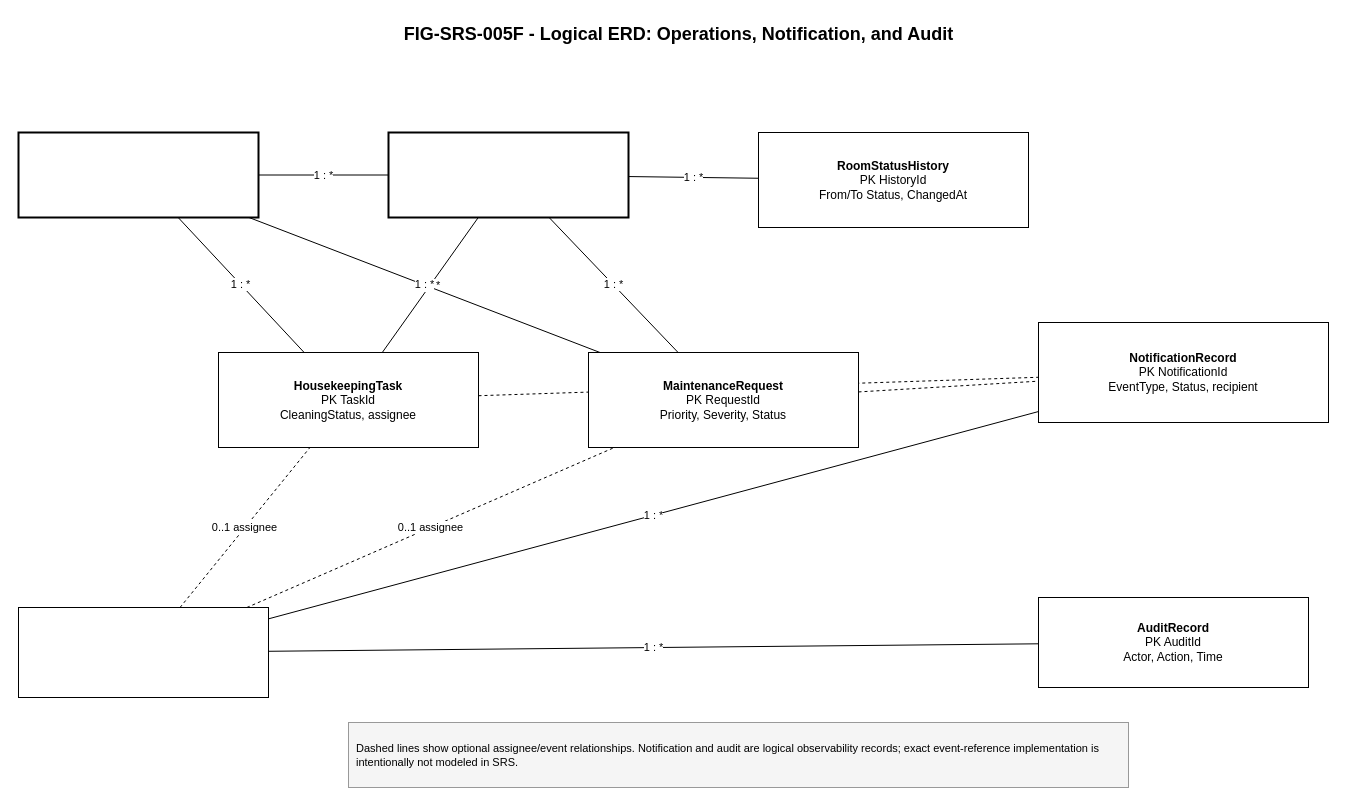
This 1346x805 diagram has some shape labels left out. Here are the shapes that lost their labels. From the top down, the centre of each, then its label:
point 138,174: HotelProperty PK HotelId Operational scope
point 508,174: PhysicalRoom PK PhysicalRoomId RoomStatus
point 143,652: UserAccount PK UserAccountId Staff actor / recipient
